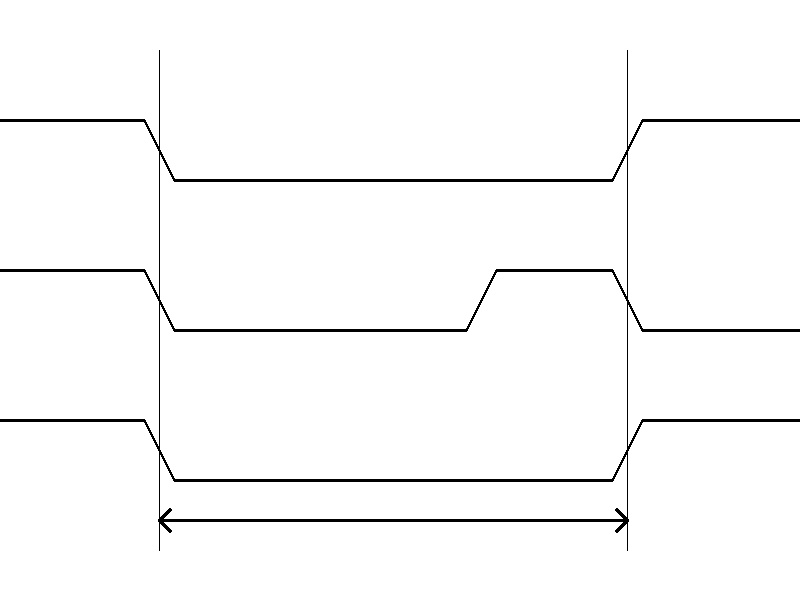double_arrow: (159, 505, 627, 535)
